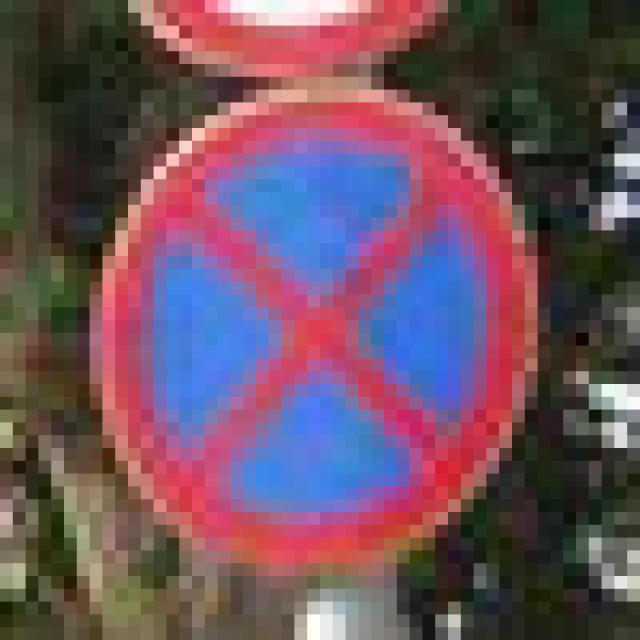no stopping or standing: (82, 73, 551, 583)
